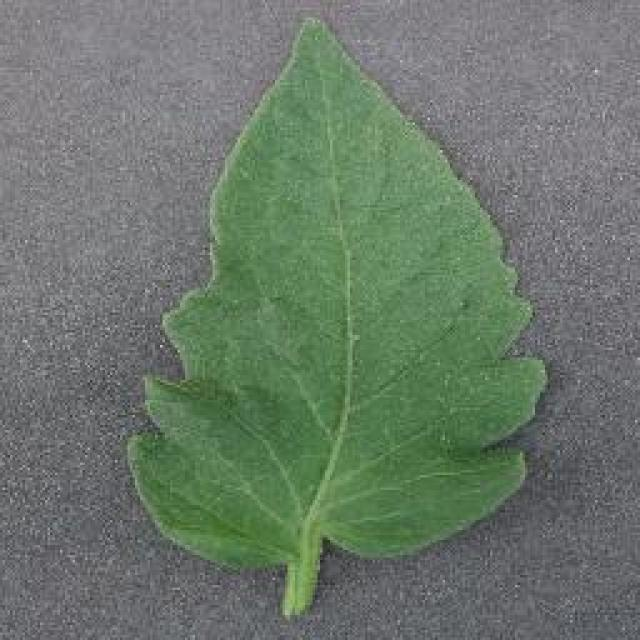Tomato_Healthy: (117, 14, 556, 558)
